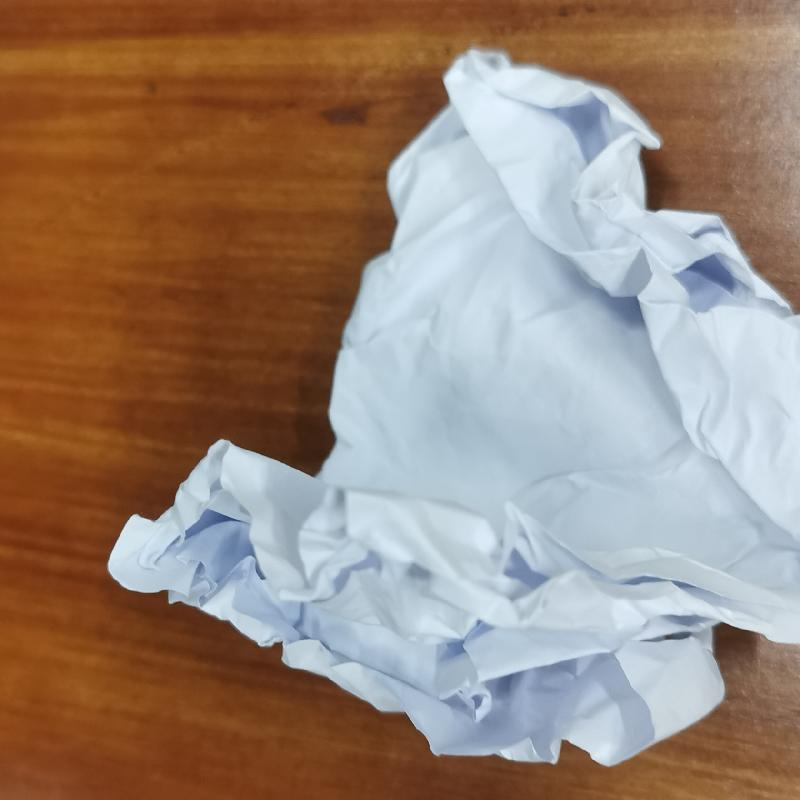spitball: (100, 44, 799, 772)
